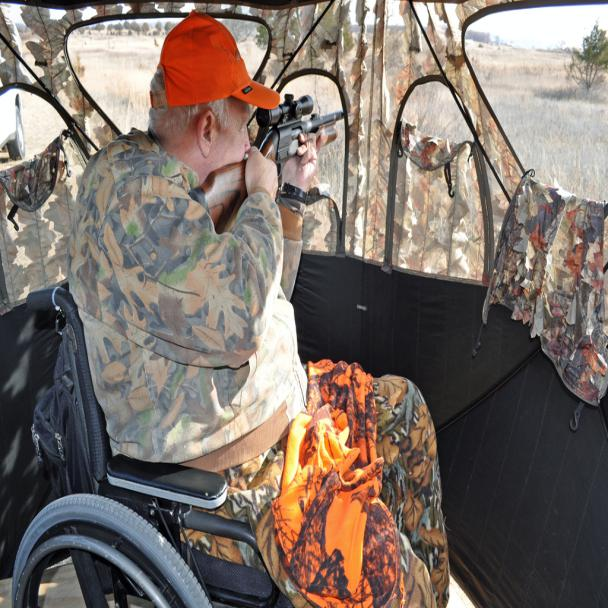Gun: (197, 90, 352, 214)
Hand: (281, 130, 319, 198), (245, 146, 281, 202)
